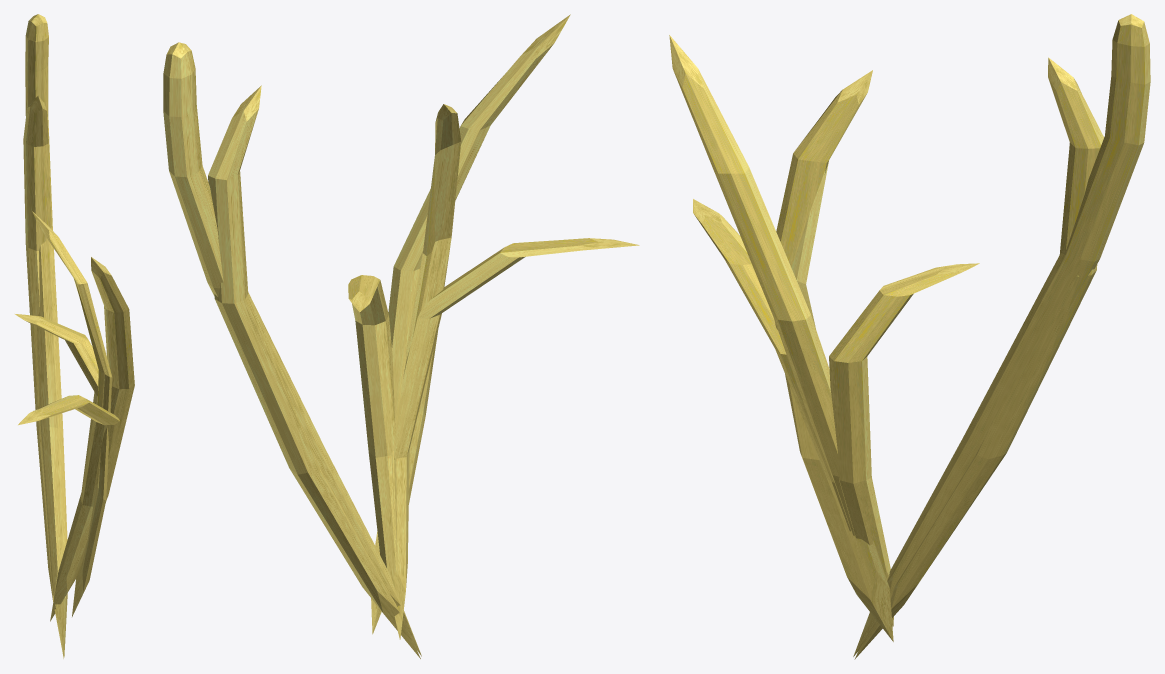
The model's file is GlonPatyczak.obj.
3 views of the same model, side by side, from view 1: azimuth 30°, elevation 25°; view 2: azimuth 150°, elevation 25°; view 3: azimuth 270°, elevation 25° (orthographic). The views are drawn at different scales.
Parts seen in each view (by area): view 1: Cube.004; view 2: Cube.004; view 3: Cube.004.
Part boxes in pixels (box(x1,y1,x2,y2)): Cube.004: box(15, 14, 134, 658); Cube.004: box(163, 14, 639, 658); Cube.004: box(669, 14, 1150, 659).
Size of the model in its own units: 1.63 by 4.23 by 2.64.
Materials: 1 (1 with a texture image).
